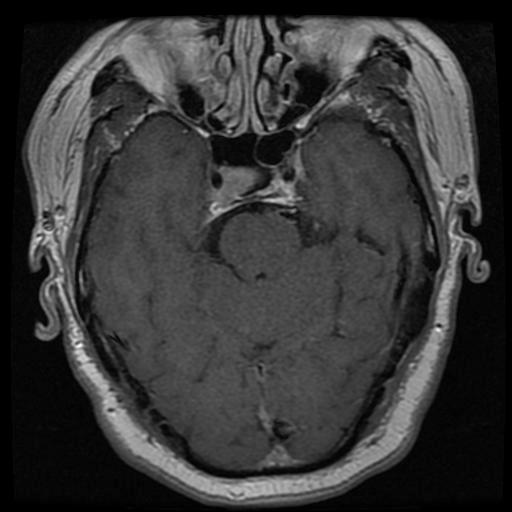Tumour-Pituitary: (193, 155, 315, 225)
